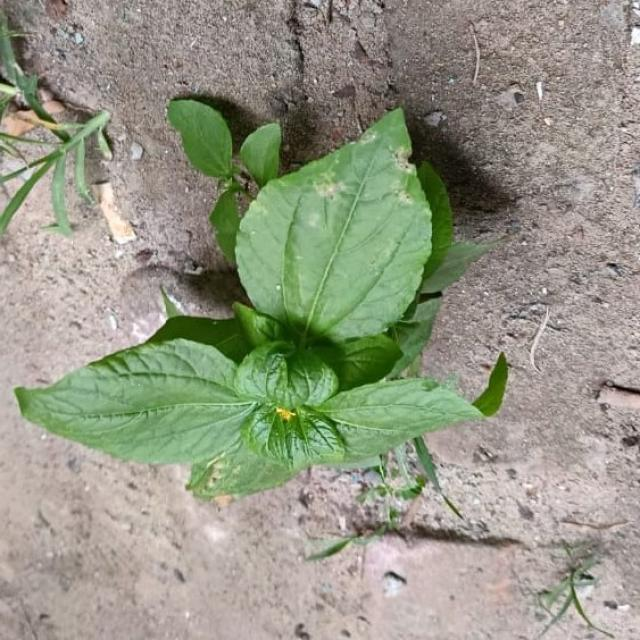weed: (15, 100, 509, 500)
